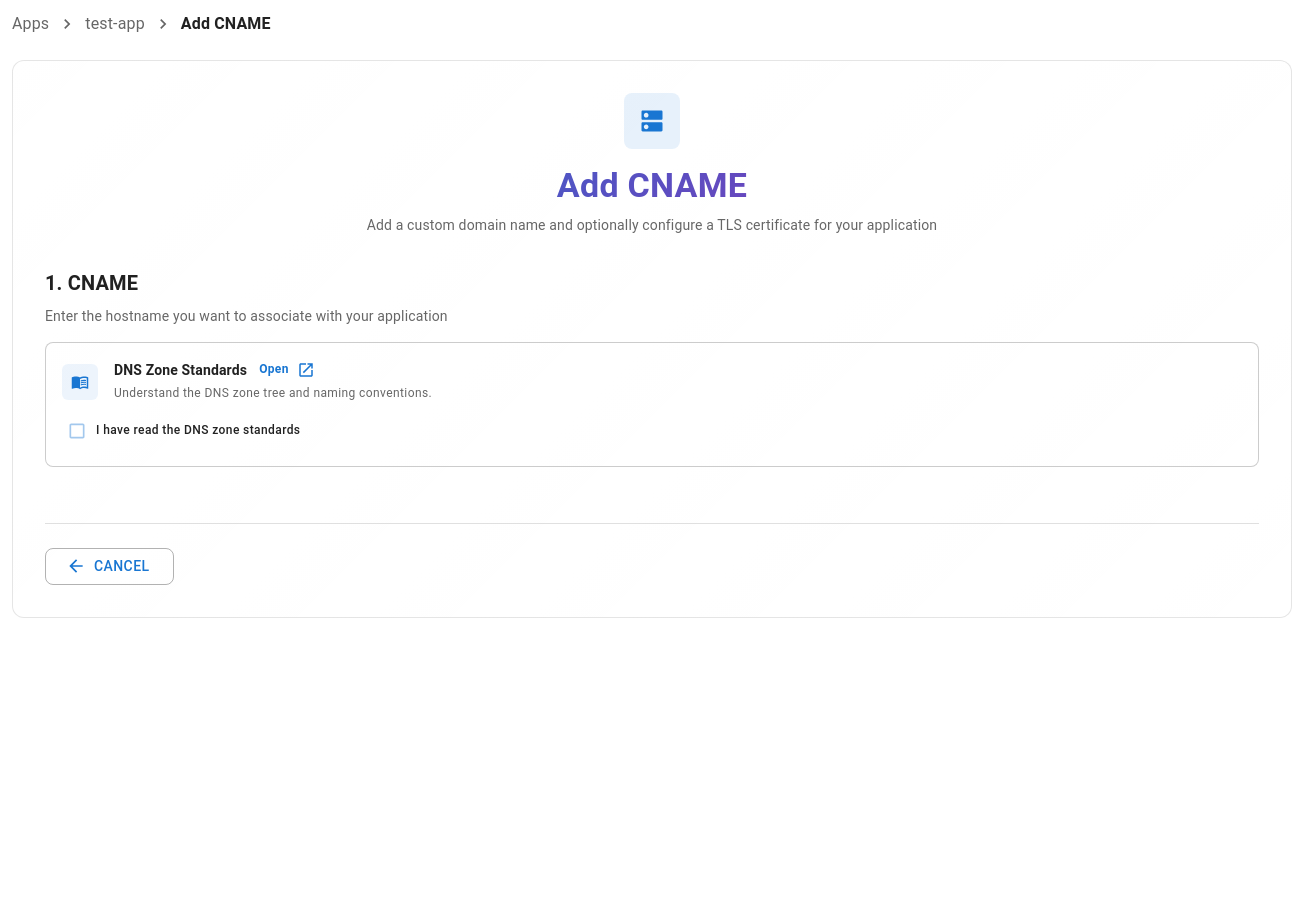
Test case: AppCNameAddView › shows validation error for invalid hostname
Click the checkbox labelled "I have read the DNS zone standards".
click(184, 431)  # box x1=67 y1=421 x2=300 y2=441
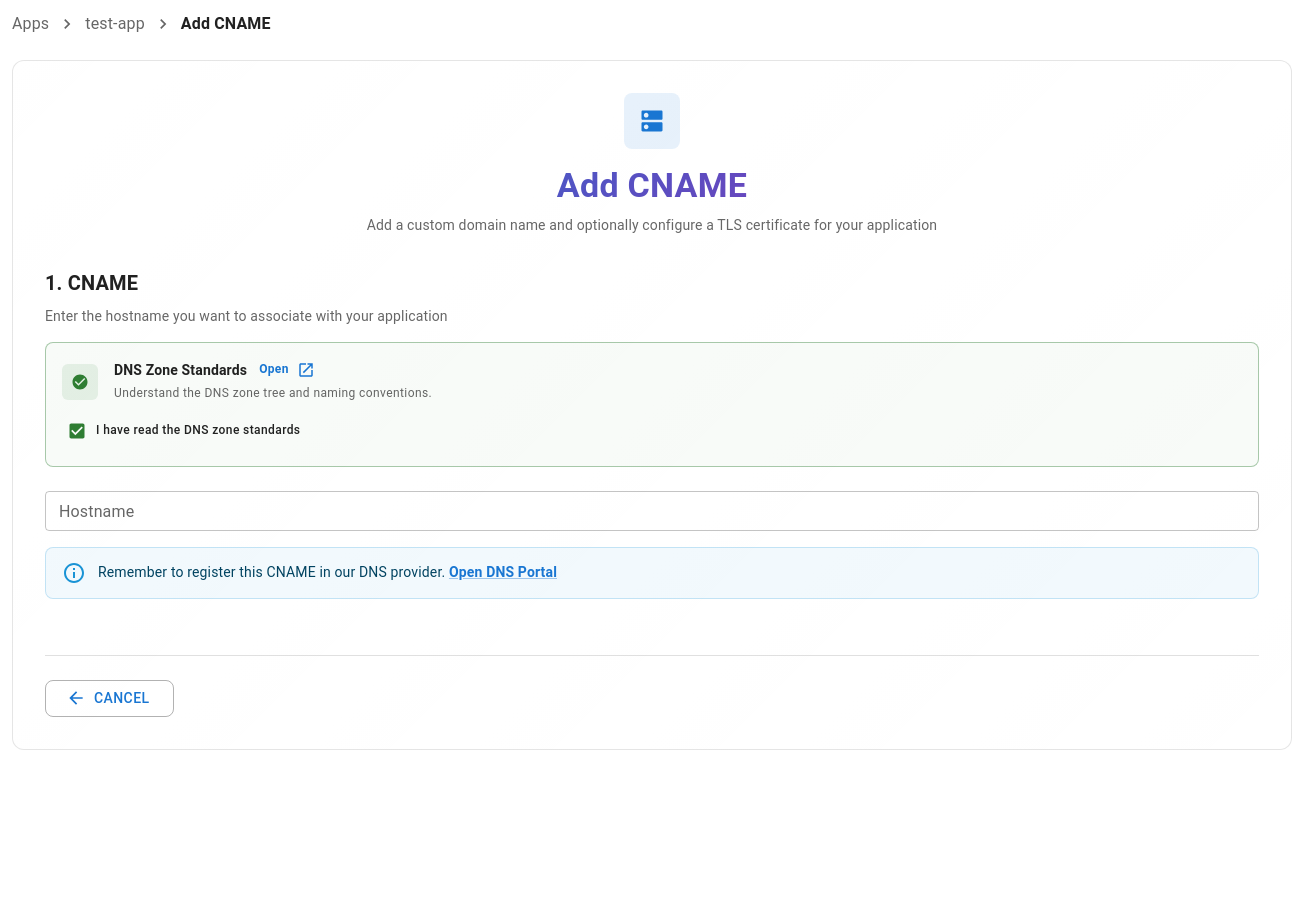
Type "nodotshere" into the field labelled "Hostname".
click(652, 511); type("nodotshere")  # box x1=45 y1=491 x2=1259 y2=531
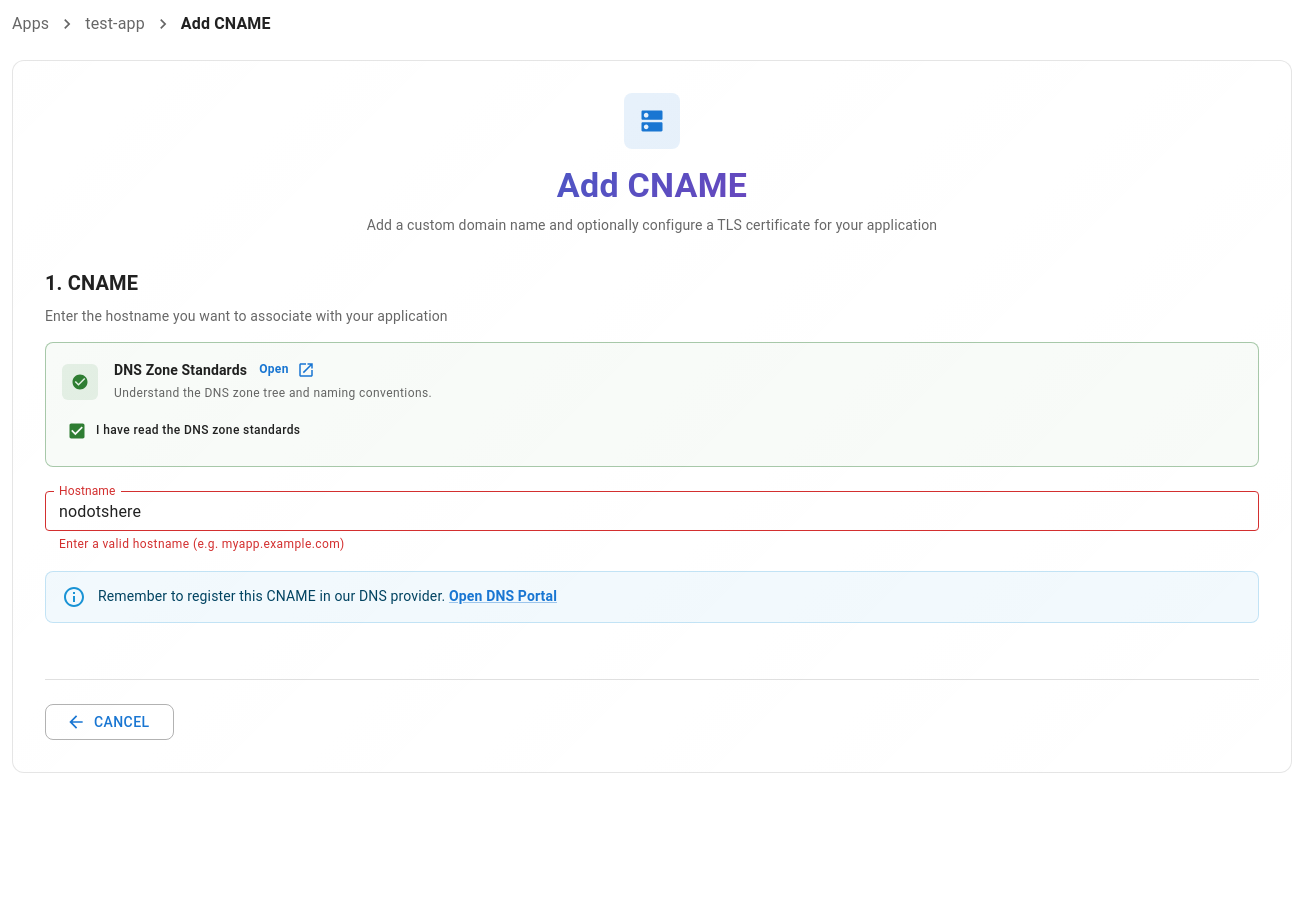
expect the text "Enter a valid hostname (e.g. myapp.example.com)" is shown: met, box x1=59 y1=537 x2=345 y2=551
